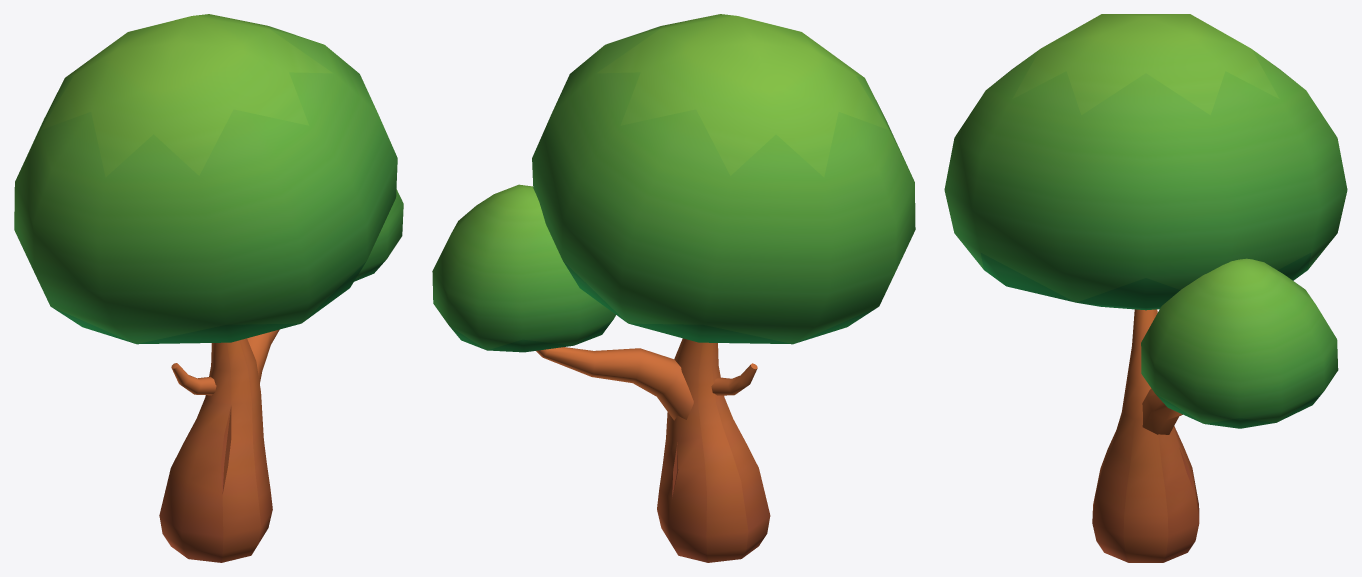
The model's file is tree_1_b_color1.glb.
3 views of the same model, side by side, from view 1: azimuth 30°, elevation 25°; view 2: azimuth 150°, elevation 25°; view 3: azimuth 270°, elevation 25° (orthographic).
Visible parts, largest first — view 1: Tree_1_B_Color1; view 2: Tree_1_B_Color1; view 3: Tree_1_B_Color1.
Part boxes in pixels (<box>): Tree_1_B_Color1: <box>14,14,403,562</box>; Tree_1_B_Color1: <box>432,14,915,562</box>; Tree_1_B_Color1: <box>944,14,1347,562</box>.
Bounding box in the file's own units: 4.01 × 4.93 × 3.45.
1 material, 1 textured.
